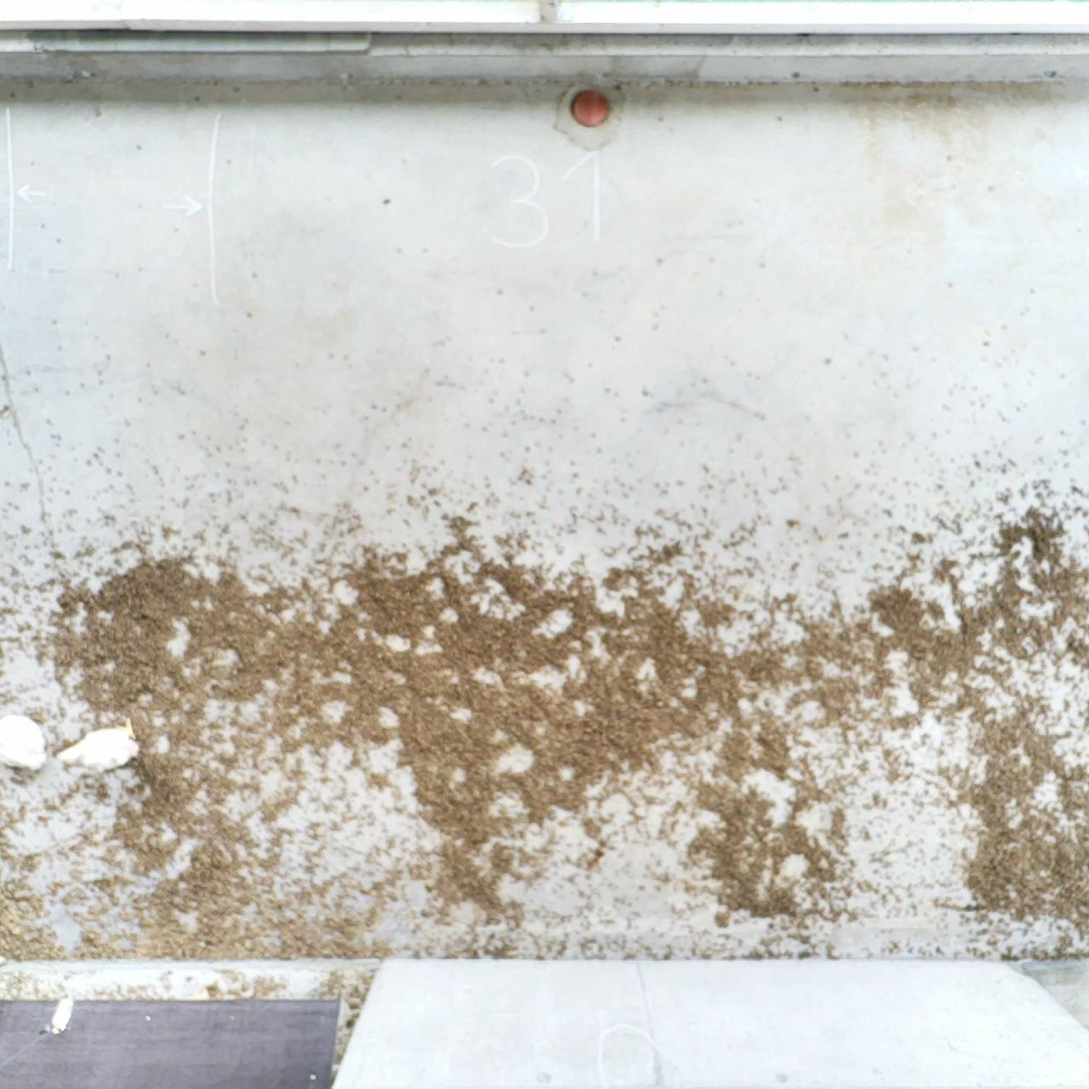chicken: (53, 718, 149, 774), (0, 709, 49, 773)
